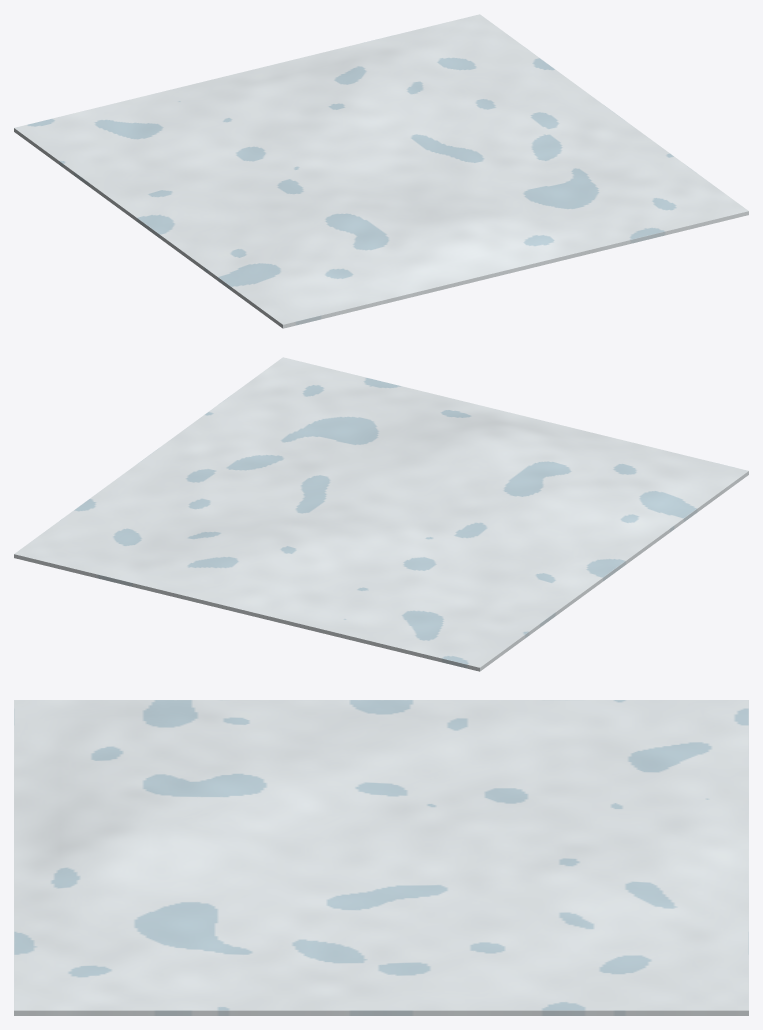
The model's file is Snow_Flat_02.obj.
3 views of the same model, one above another, from view 1: azimuth 30°, elevation 25°; view 2: azimuth 150°, elevation 25°; view 3: azimuth 270°, elevation 25° (orthographic). The views are drawn at different scales.
Bounding box in the file's own units: 10 × 0.3169 × 10.
1 material, 1 textured.
